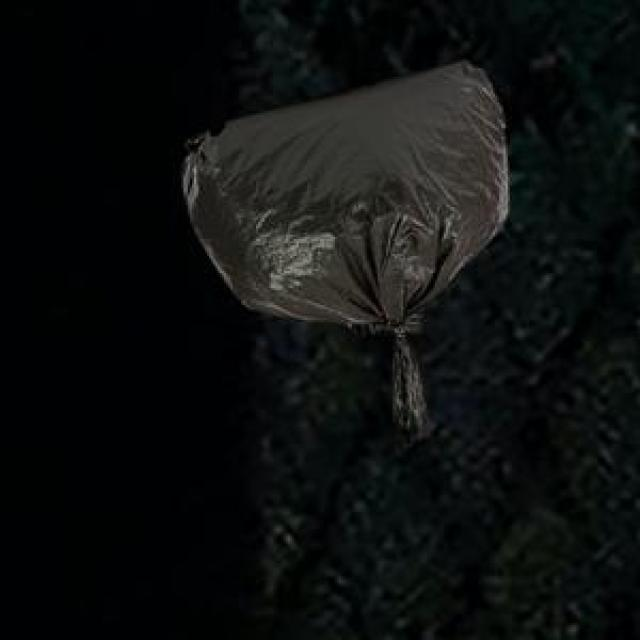Vinyl: (182, 61, 509, 437)
